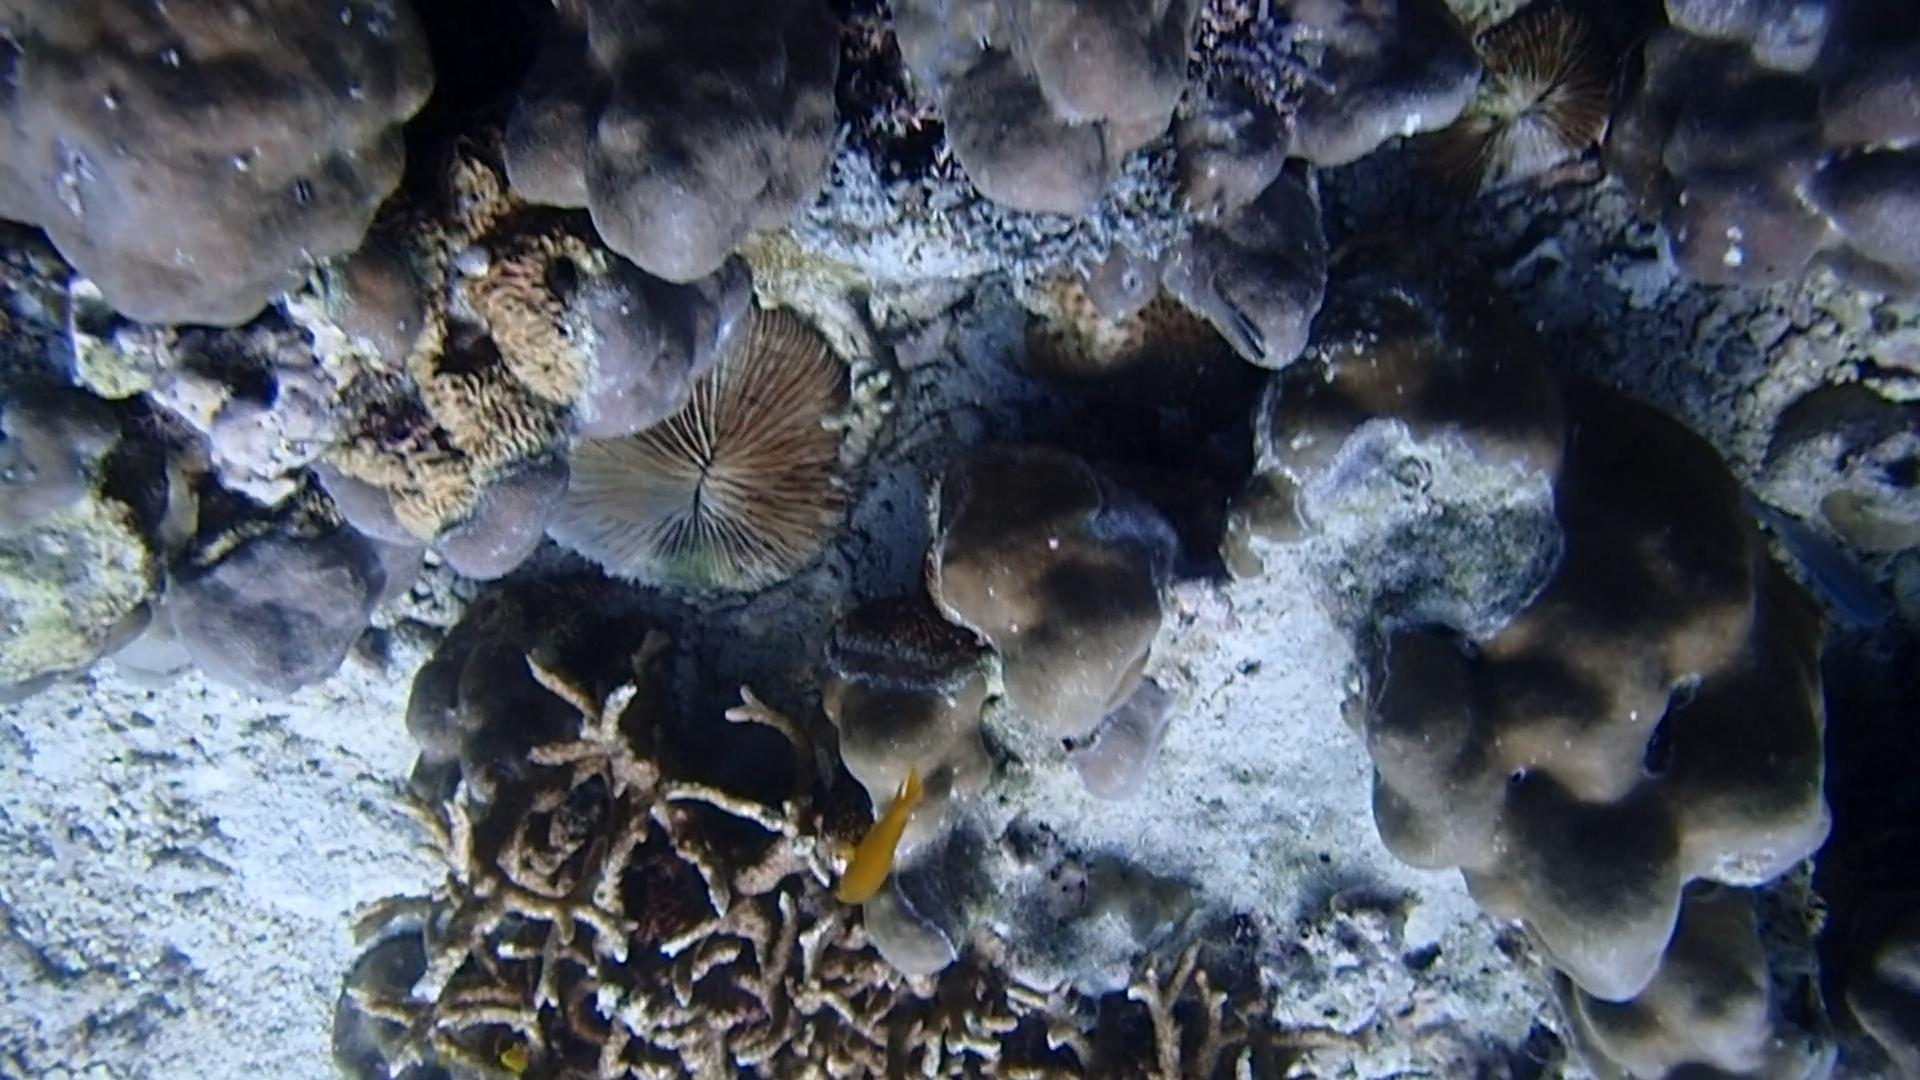Yellow Fish: (828, 770, 932, 913), (492, 1025, 541, 1077)
